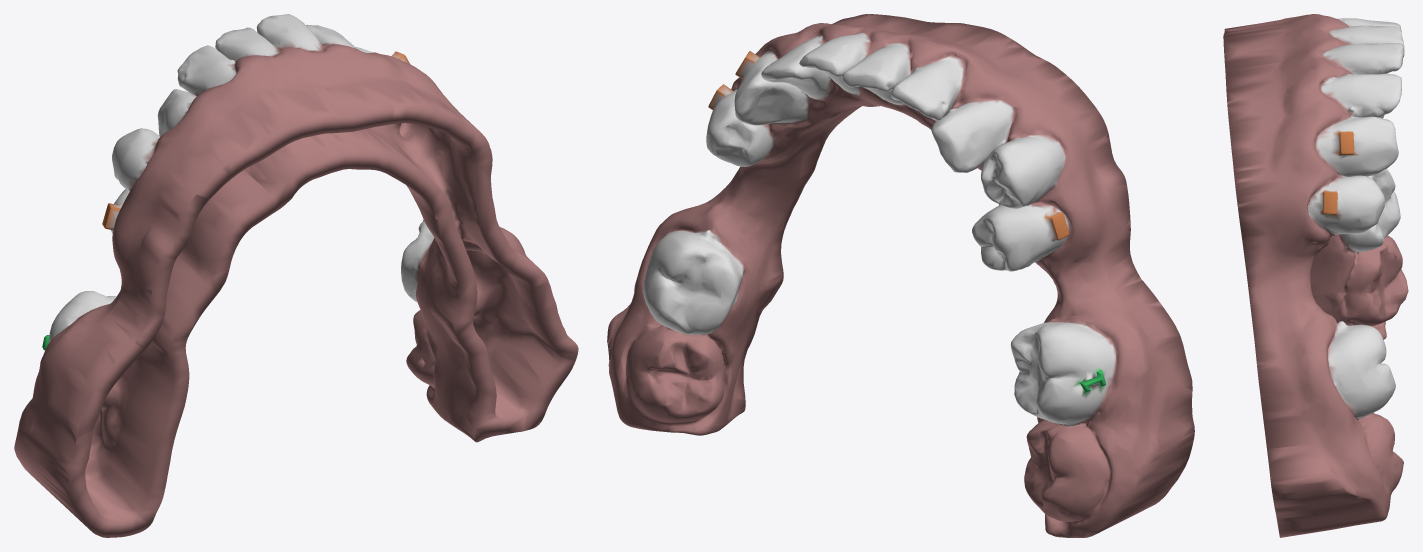
File: lower-model-1.glb
3 views of the same model, side by side, from view 1: azimuth 30°, elevation 25°; view 2: azimuth 150°, elevation 25°; view 3: azimuth 270°, elevation 25° (orthographic). The views are drawn at different scales.
Visible parts, largest first — view 1: 1 (2); view 2: 1 (2); view 3: 1 (2).
Part boxes in pixels (box(x1,y1,x2,y2)): 1 (2): box(14, 14, 578, 537); 1 (2): box(607, 14, 1194, 537); 1 (2): box(1223, 14, 1408, 537).
Bounding box in the file's own units: 64.22 × 49.88 × 20.71.
